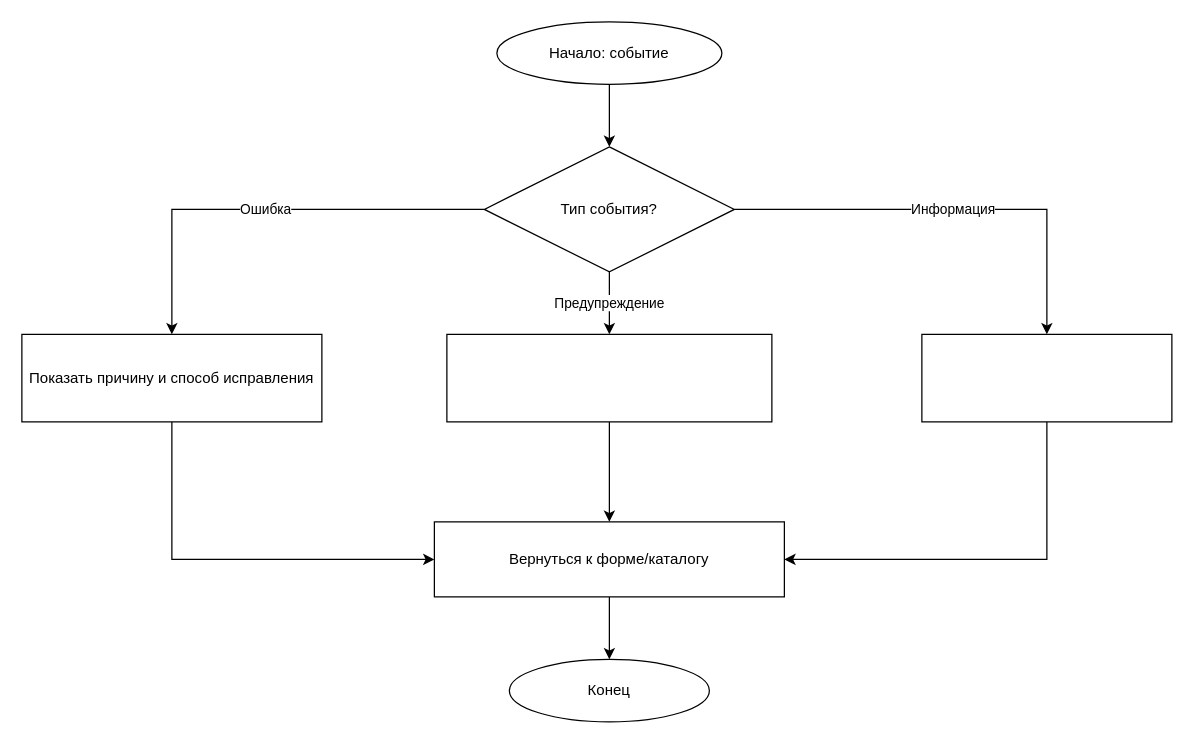
The diagram is 1194 pixels wide and 744 high, and some of its shapes have lost their labels. The shapes that lost their labels are listed below. From the top down, each one's centre as x and y in pixels, then its label:
[609,377]: Показать последствия и запросить подтверждение
[1046,377]: Показать результат
